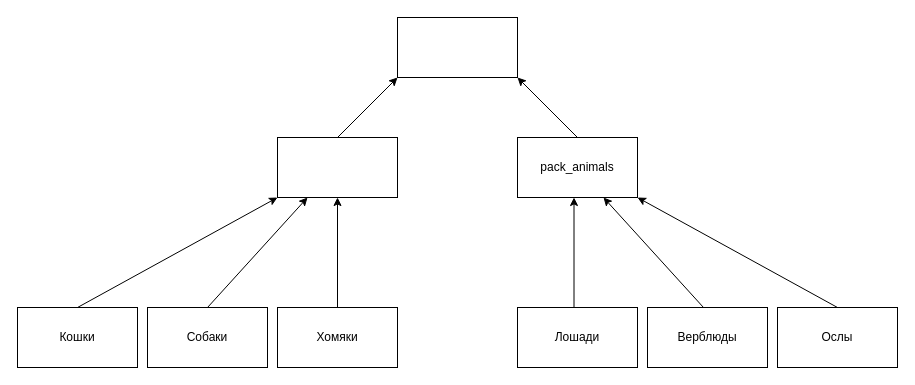
Image size: 915x385. Some labels were removed from this diagram. Each missing label, with the box of its shape:
home_animals: (276, 136, 398, 198)
Humans_friends: (396, 16, 518, 78)
